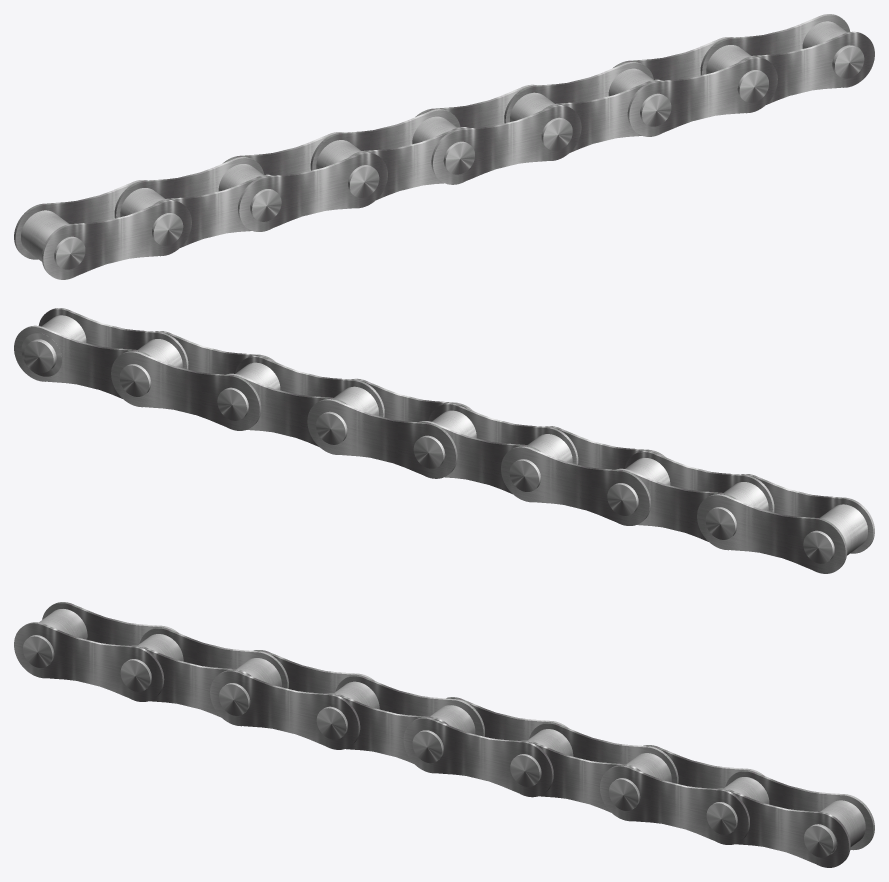
File: 自転車のチェーン.fbx
The picture shows the model from 3 angles, top to bottom: view 1: azimuth 30°, elevation 25°; view 2: azimuth 150°, elevation 25°; view 3: azimuth 330°, elevation 25°; orthographic projection.
Visible parts, largest first — view 1: パーツ1; view 2: パーツ1; view 3: パーツ1.
Part boxes in pixels (<box>): パーツ1: <box>14,14,874,279</box>; パーツ1: <box>14,308,874,573</box>; パーツ1: <box>14,602,874,867</box>.
Bounding box in the file's own units: 1774 × 109 × 122.
1 material, 1 textured.
